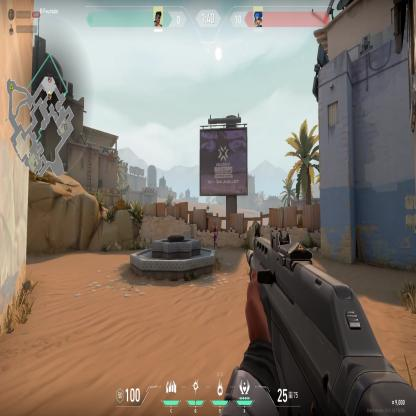enemy: (212, 219, 219, 251)
